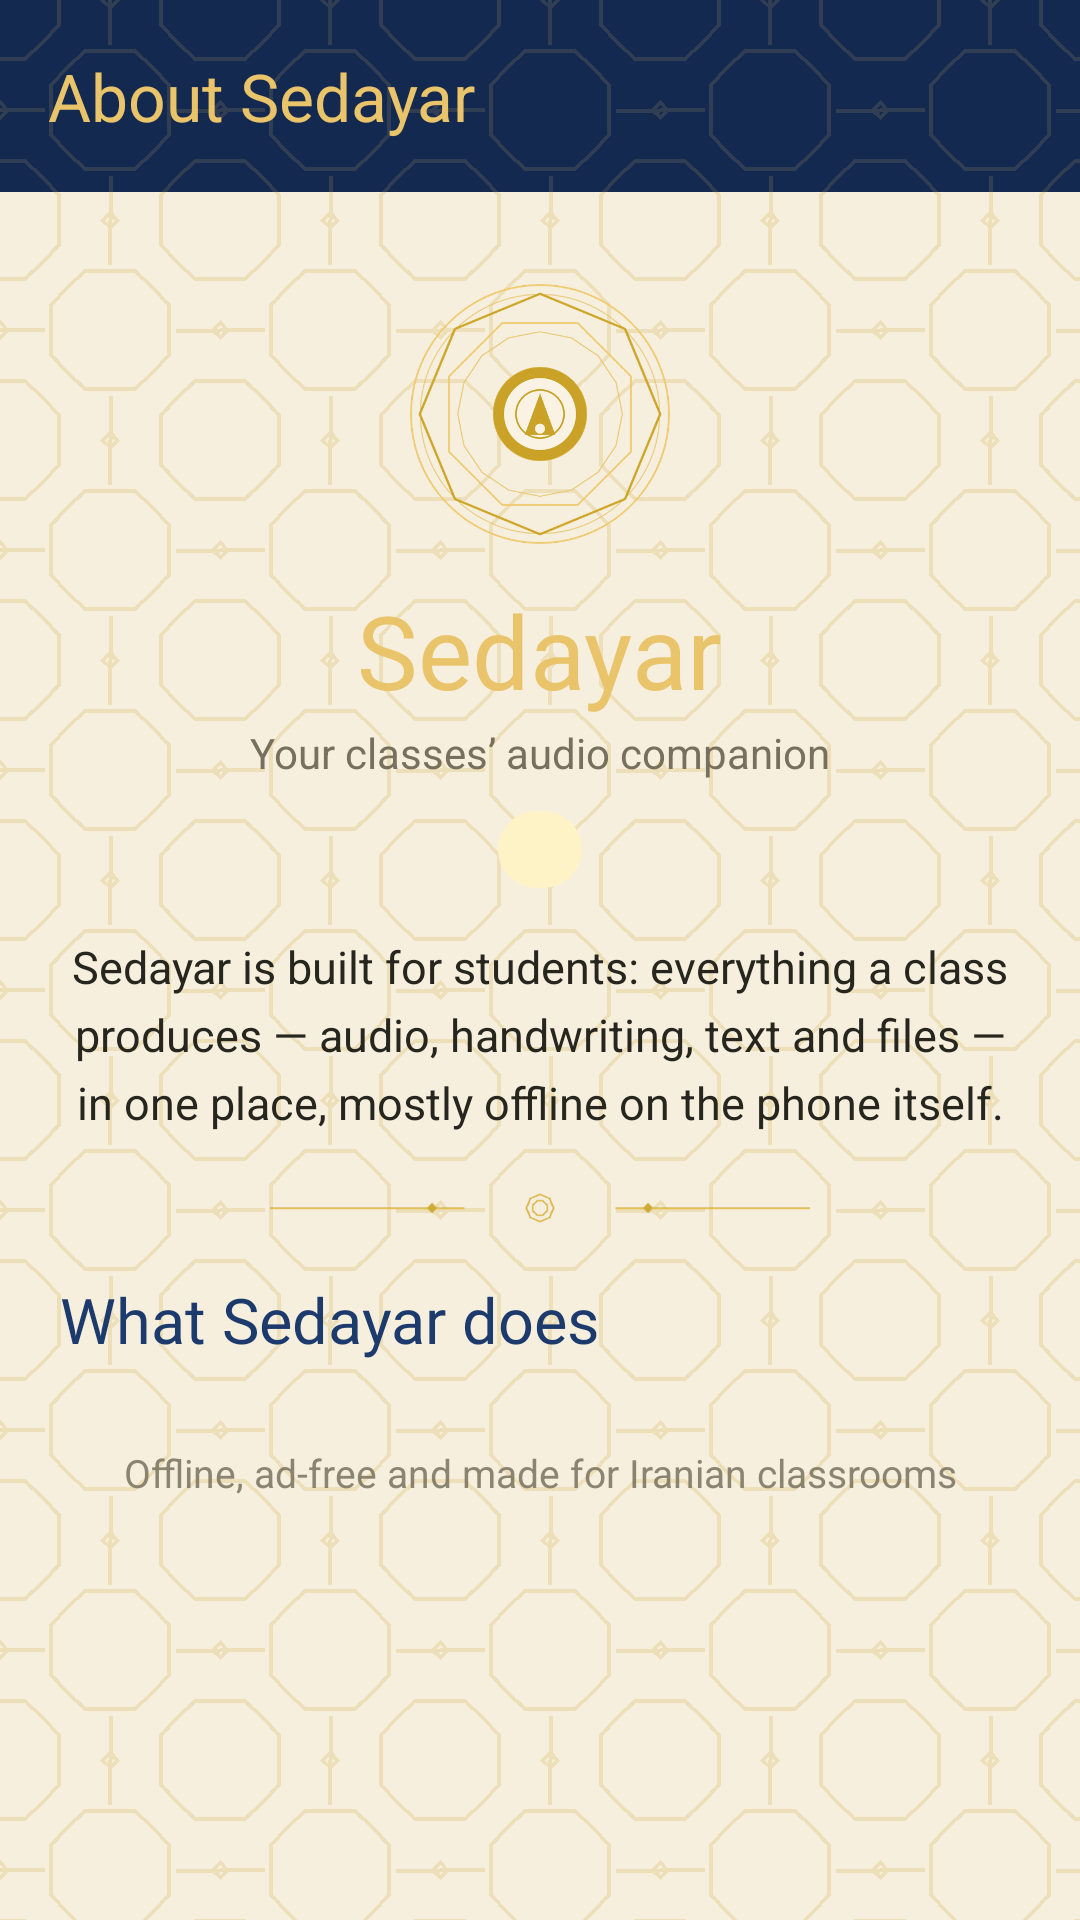

Screen size 1080px x 1920px. Icon name, then its center in pixels as (x=x, y=y):
shamseh: (x=540, y=414)
